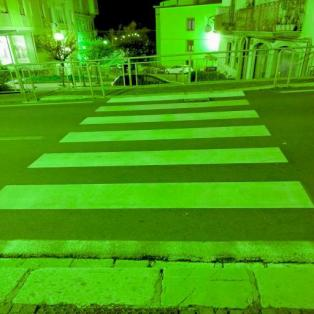Paso de Cebra: (25, 123, 290, 170), (92, 89, 253, 113)
